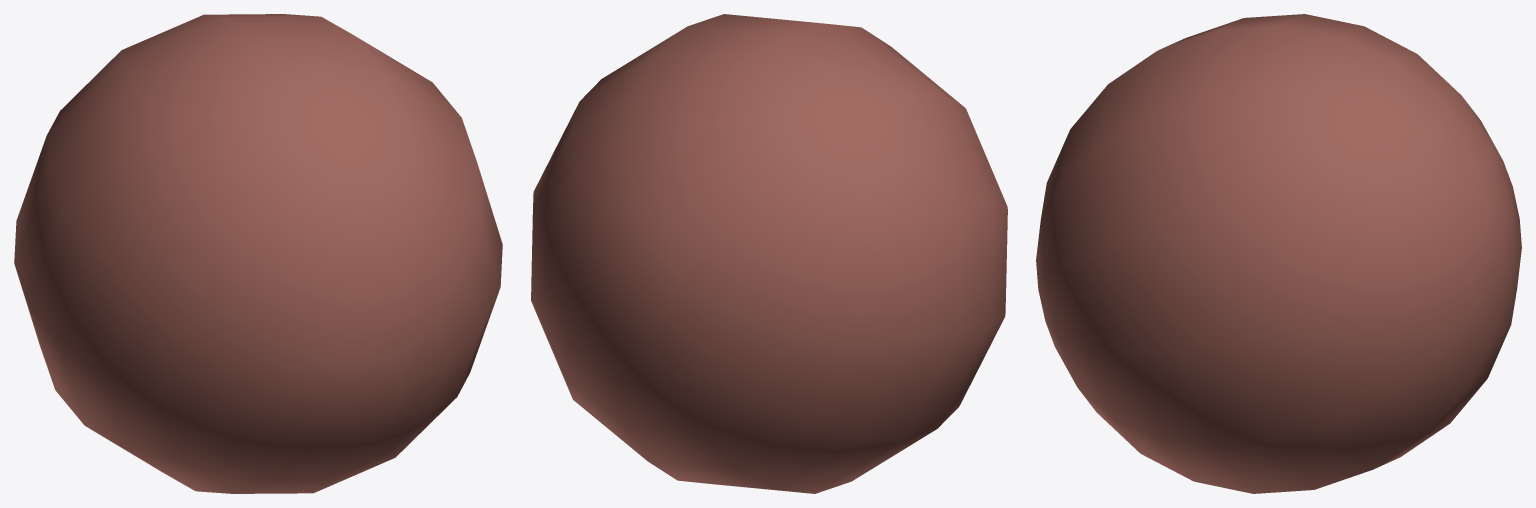
Rendered from mixamo_humanoid_joint_rightHandMiddle1.fbx.
3 renders of one model, left to right at view 1: azimuth 30°, elevation 25°; view 2: azimuth 150°, elevation 25°; view 3: azimuth 270°, elevation 25°, orthographic.
Parts seen in each view (by area): view 1: joint_RightHandMiddle1; view 2: joint_RightHandMiddle1; view 3: joint_RightHandMiddle1.
Part boxes in pixels (box(x1,y1,x2,y2)): joint_RightHandMiddle1: box(14, 14, 502, 493); joint_RightHandMiddle1: box(531, 14, 1007, 493); joint_RightHandMiddle1: box(1036, 14, 1521, 493).
Bounding box in the file's own units: 2.59 × 2.62 × 2.62.
